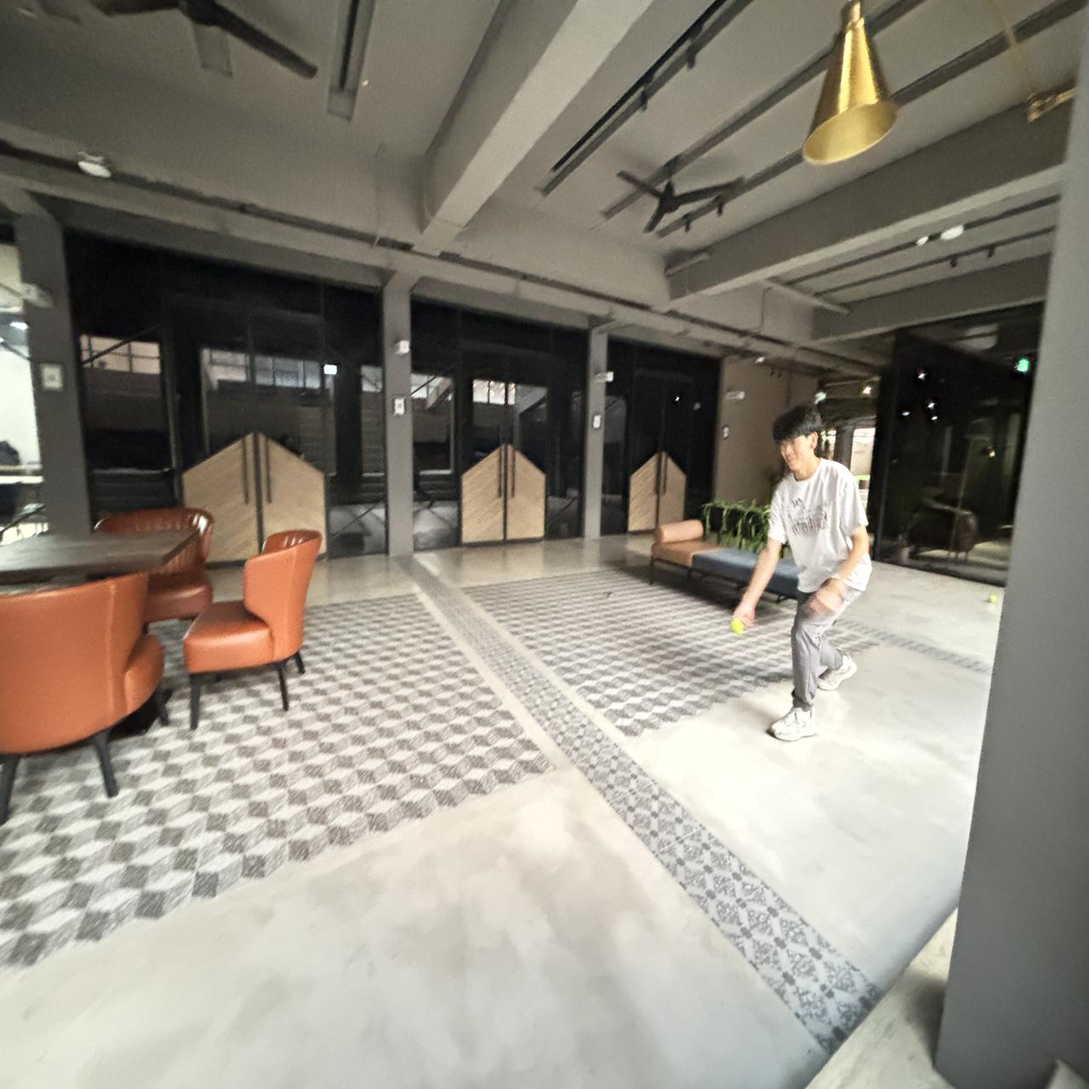person: (733, 405, 871, 740)
tennisball: (731, 619, 744, 633), (989, 594, 997, 602)
